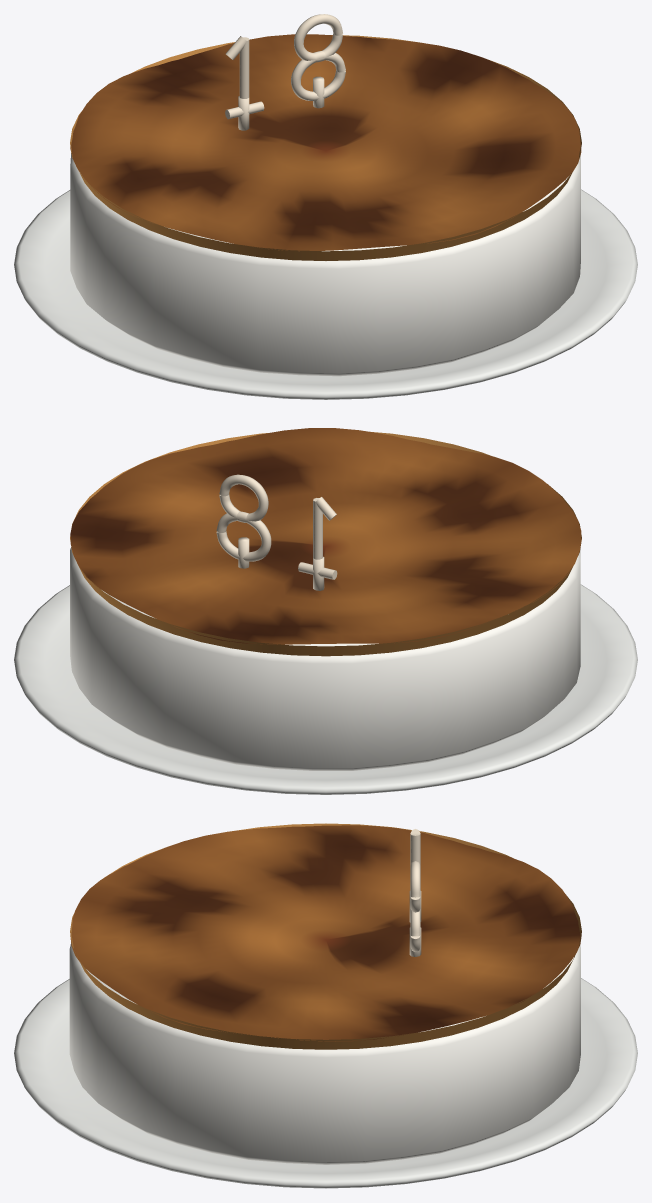
Rendered from cake-18.c0f707fbb7f1-B8TDbWQI.glb.
The picture shows the model from 3 angles, top to bottom: view 1: azimuth 30°, elevation 25°; view 2: azimuth 150°, elevation 25°; view 3: azimuth 270°, elevation 25°; orthographic projection.
Parts seen in each view (by area): view 1: Dimpled_baked_caramel_surface, Unwrapped_baked_cheesecake, Clean_porcelain_plate, Baked_thin_crust_edge, PART_FOOD_ROOT_MAT_number_wax; view 2: Dimpled_baked_caramel_surface, Unwrapped_baked_cheesecake, Clean_porcelain_plate, Baked_thin_crust_edge, PART_FOOD_ROOT_MAT_number_wax; view 3: Dimpled_baked_caramel_surface, Unwrapped_baked_cheesecake, Clean_porcelain_plate, Baked_thin_crust_edge, PART_FOOD_ROOT_MAT_number_wax.
Boxes of the visible parts, x1=… form: Dimpled_baked_caramel_surface: x1=70, y1=34, x2=581, y2=251; Unwrapped_baked_cheesecake: x1=70, y1=153, x2=580, y2=376; Clean_porcelain_plate: x1=14, y1=189, x2=637, y2=399; Baked_thin_crust_edge: x1=70, y1=35, x2=581, y2=260; PART_FOOD_ROOT_MAT_number_wax: x1=225, y1=14, x2=345, y2=130; Dimpled_baked_caramel_surface: x1=70, y1=428, x2=581, y2=644; Unwrapped_baked_cheesecake: x1=70, y1=547, x2=580, y2=770; Clean_porcelain_plate: x1=14, y1=584, x2=637, y2=794; Baked_thin_crust_edge: x1=70, y1=431, x2=581, y2=656; PART_FOOD_ROOT_MAT_number_wax: x1=216, y1=474, x2=337, y2=590; Dimpled_baked_caramel_surface: x1=70, y1=825, x2=581, y2=1041; Unwrapped_baked_cheesecake: x1=69, y1=943, x2=580, y2=1164; Clean_porcelain_plate: x1=14, y1=978, x2=637, y2=1188; Baked_thin_crust_edge: x1=70, y1=823, x2=581, y2=1049; PART_FOOD_ROOT_MAT_number_wax: x1=409, y1=829, x2=421, y2=956.
Bounding box in the file's own units: 0.1952 × 0.0768 × 0.1952.
